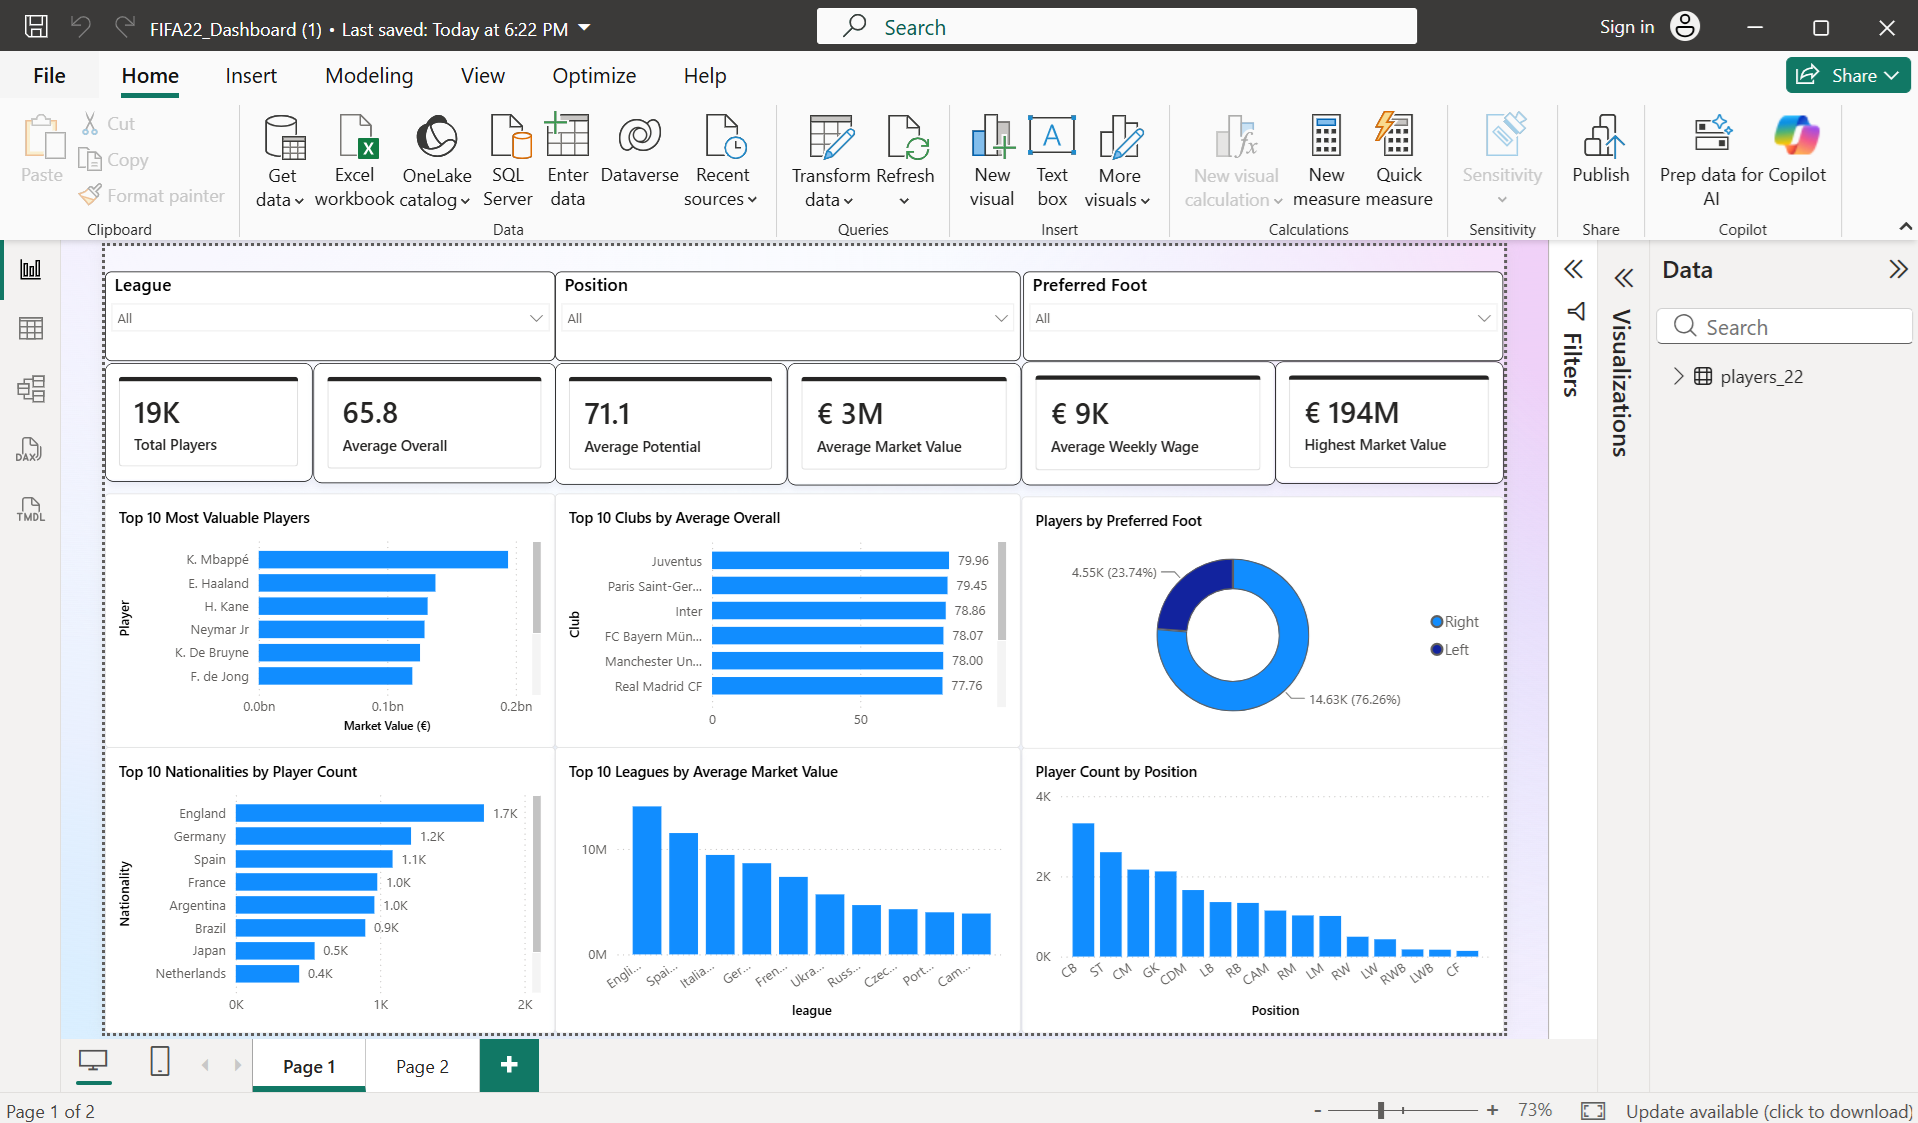

The page's visual inventory and layout, read from the dashboard file:
{"tool":"powerbi","page":{"name":"Page 1","canvas":[1280,720],"ordinal":0},"visuals":[{"type":"cardVisual","fields":{"Data":["players_22.Total Players"]},"box":[0,107,190.1,108.6],"z":0},{"type":"cardVisual","fields":{"Data":["players_22.Average Overall"]},"box":[190.1,107,222,110.2],"z":1000},{"type":"cardVisual","fields":{"Data":["players_22.Average Potential"]},"box":[412.1,107.4,212.9,111.3],"z":2000},{"type":"cardVisual","fields":{"Data":["players_22.Average Market Value"]},"box":[624.6,107,214,111.8],"z":3000},{"type":"cardVisual","fields":{"Data":["players_22.Average Weekly Wage"]},"box":[837.9,105.5,232.4,113.3],"z":4000},{"type":"cardVisual","fields":{"Data":["players_22.Highest Market Value"]},"box":[1070.2,105.4,209.3,111.8],"z":5000},{"type":"clusteredBarChart","title":"Top 10 Most Valuable Players","fields":{"Y":["Sum(players_22.value_eur)"],"Category":["players_22.short_name"]},"box":[0,226.6,412.1,232.4],"z":6000},{"type":"clusteredColumnChart","title":"Player Count by Position","fields":{"Category":["players_22.main_position"],"Y":["CountNonNull(players_22.main_position)"]},"box":[837.9,459,441.4,261.7],"z":7000},{"type":"clusteredBarChart","title":"Top 10 Clubs by Average Overall","fields":{"Category":["players_22.club_name"],"Y":["Avg(players_22.overall)"]},"box":[412.1,226.6,425.8,232.4],"z":8000},{"type":"donutChart","title":"Players by Preferred Foot","fields":{"Category":["players_22.preferred_foot"],"Y":["CountNonNull(players_22.preferred_foot)"]},"box":[837.9,228.5,441.4,230.5],"z":9000},{"type":"clusteredBarChart","title":"Top 10 Nationalities by Player Count","fields":{"Category":["players_22.nationality_name"],"Y":["CountNonNull(players_22.nationality_name)"]},"box":[0,459,412.1,261.7],"z":10000},{"type":"clusteredColumnChart","title":"Top 10 Leagues by Average Market Value","fields":{"Category":["players_22.league_name"],"Y":["Avg(players_22.value_eur)"]},"box":[412.1,459,425.8,261.7],"z":11000},{"type":"slicer","fields":{"Values":["players_22.league_name"]},"box":[0,23.4,412.1,82],"z":12000},{"type":"slicer","fields":{"Values":["players_22.main_position"]},"box":[412.1,23.4,425.8,82],"z":13000},{"type":"slicer","fields":{"Values":["players_22.preferred_foot"]},"box":[839.9,23.4,439.5,82],"z":14000}]}

Visuals, with their boxes on the page's 1280x720 design canvas (x1, y1, x2, y2). These are canvas units, not pixel positions in the 1918x1123 screenshot, which may show the page scaled, cropped or inside an application window:
cardVisual - players_22.Total Players: [x1=0, y1=107, x2=190, y2=216]
cardVisual - players_22.Average Overall: [x1=190, y1=107, x2=412, y2=217]
cardVisual - players_22.Average Potential: [x1=412, y1=107, x2=625, y2=219]
cardVisual - players_22.Average Market Value: [x1=625, y1=107, x2=839, y2=219]
cardVisual - players_22.Average Weekly Wage: [x1=838, y1=106, x2=1070, y2=219]
cardVisual - players_22.Highest Market Value: [x1=1070, y1=105, x2=1280, y2=217]
"Top 10 Most Valuable Players" clusteredBarChart: [x1=0, y1=227, x2=412, y2=459]
"Player Count by Position" clusteredColumnChart: [x1=838, y1=459, x2=1279, y2=721]
"Top 10 Clubs by Average Overall" clusteredBarChart: [x1=412, y1=227, x2=838, y2=459]
"Players by Preferred Foot" donutChart: [x1=838, y1=228, x2=1279, y2=459]
"Top 10 Nationalities by Player Count" clusteredBarChart: [x1=0, y1=459, x2=412, y2=721]
"Top 10 Leagues by Average Market Value" clusteredColumnChart: [x1=412, y1=459, x2=838, y2=721]
slicer - players_22.league_name: [x1=0, y1=23, x2=412, y2=105]
slicer - players_22.main_position: [x1=412, y1=23, x2=838, y2=105]
slicer - players_22.preferred_foot: [x1=840, y1=23, x2=1279, y2=105]
